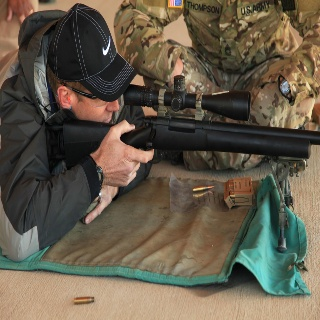rifle: (59, 80, 320, 173)
